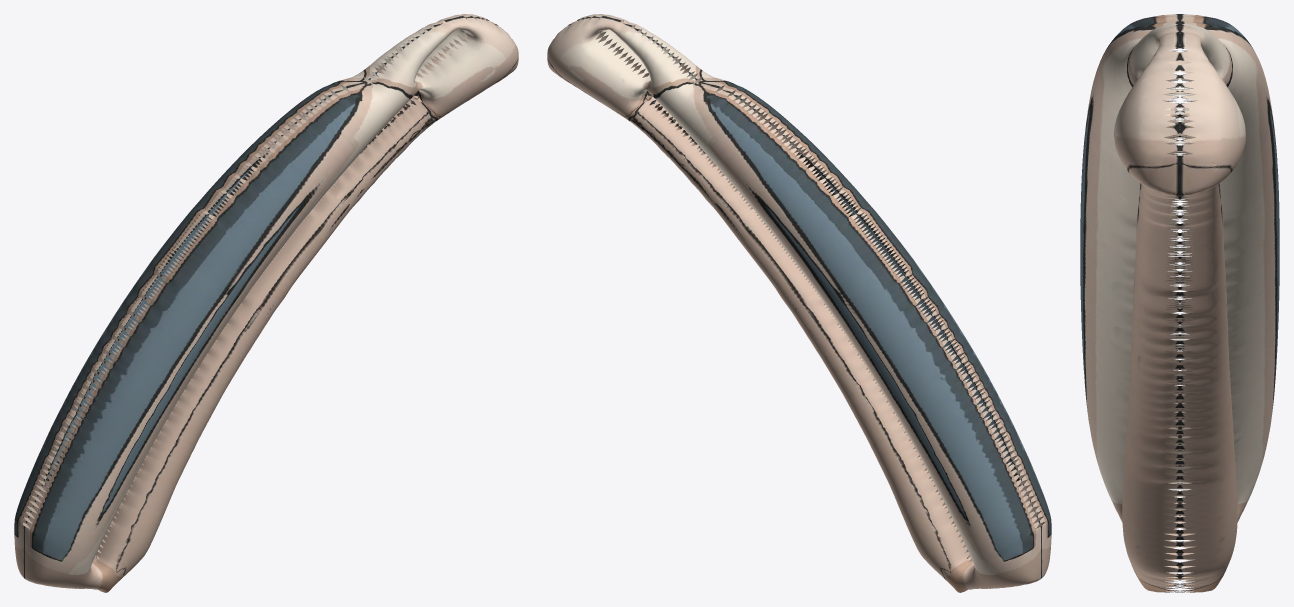
Rendered from outer_stair_stringer.glb.
The picture shows the model from 3 angles, left to right: view 1: azimuth 30°, elevation 25°; view 2: azimuth 150°, elevation 25°; view 3: azimuth 270°, elevation 25°; orthographic projection. The views are drawn at different scales.
Visible parts, largest first — view 1: outer_stair_stringer; view 2: outer_stair_stringer; view 3: outer_stair_stringer.
Boxes of the visible parts, x1,y1,x2,y2 form: outer_stair_stringer: (14, 14, 518, 592); outer_stair_stringer: (547, 14, 1051, 592); outer_stair_stringer: (1080, 14, 1279, 592).
Size of the model in its own units: 0.9889 by 0.9307 by 0.1953.
1 material, 1 textured.
